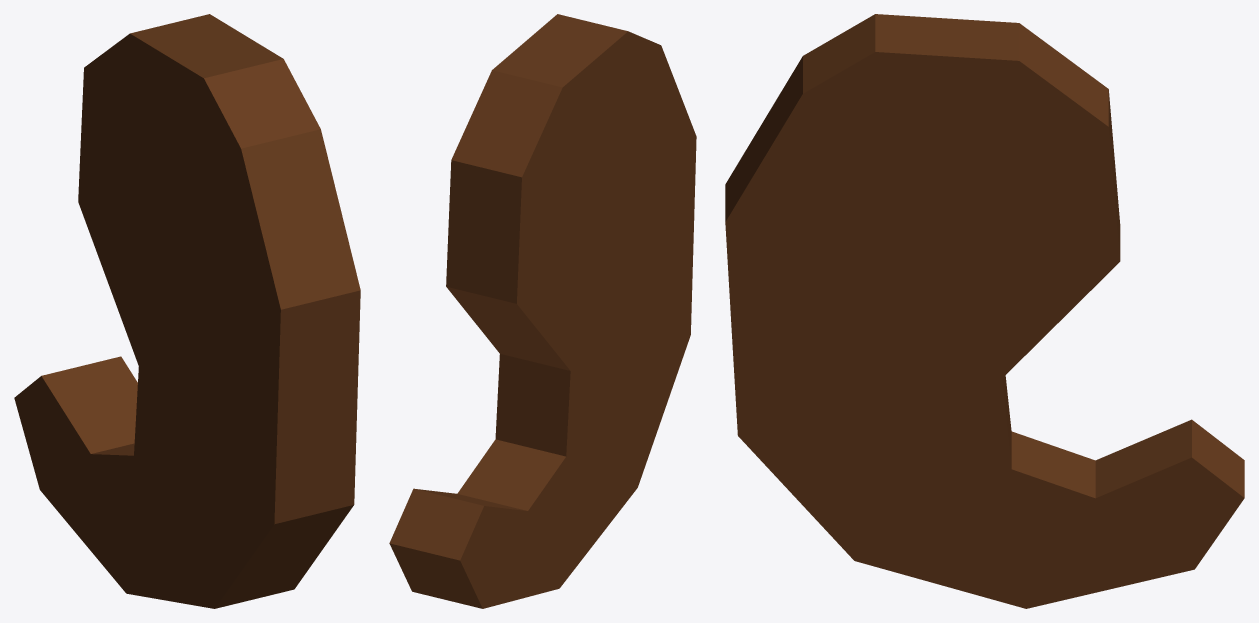
File: Steak.fbx
3 views of the same model, side by side, from view 1: azimuth 30°, elevation 25°; view 2: azimuth 150°, elevation 25°; view 3: azimuth 270°, elevation 25° (orthographic). The views are drawn at different scales.
Parts seen in each view (by area): view 1: Plane.002; view 2: Plane.002; view 3: Plane.002.
Boxes of the visible parts, left/top/right/bottom form: Plane.002: left=14, top=14, right=360, bottom=608; Plane.002: left=389, top=14, right=696, bottom=608; Plane.002: left=725, top=14, right=1244, bottom=608.
Bounding box in the file's own units: 3.61 × 24.69 × 20.86.
